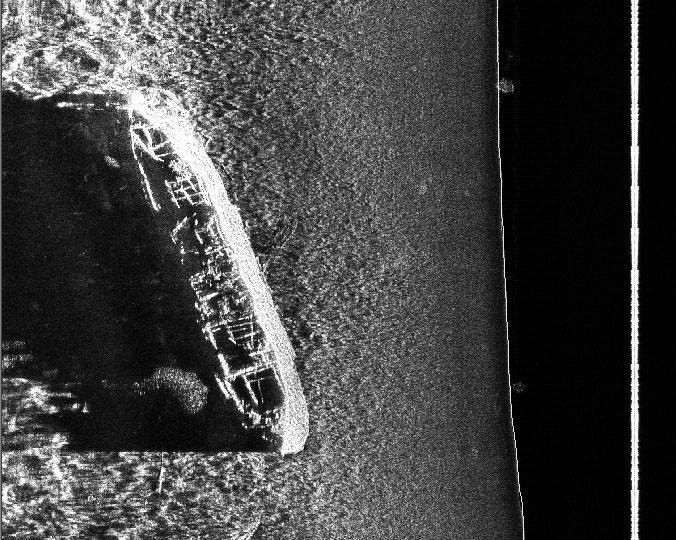ship: (122, 89, 311, 457)
